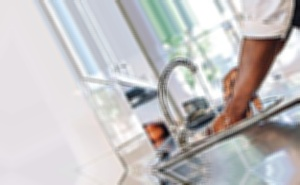washing hand: (128, 11, 295, 154)
